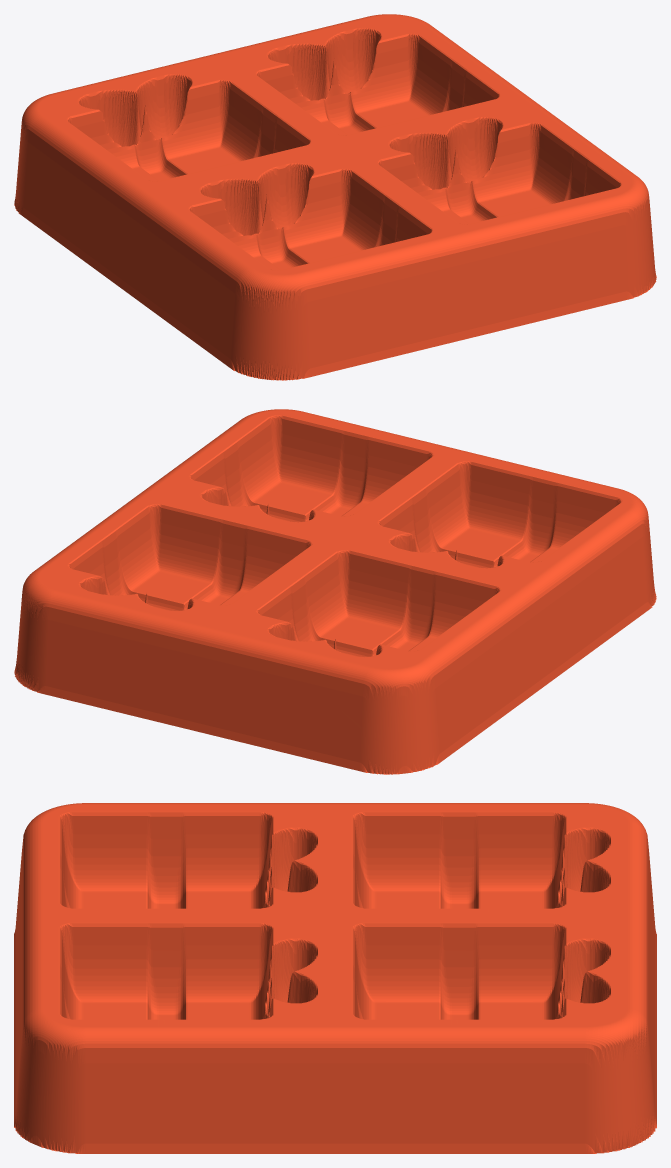
The model's file is mold.glb.
3 renders of one model, top to bottom at view 1: azimuth 30°, elevation 25°; view 2: azimuth 150°, elevation 25°; view 3: azimuth 270°, elevation 25°, orthographic. The views are drawn at different scales.
Visible parts, largest first — view 1: geometry_0; view 2: geometry_0; view 3: geometry_0.
Part boxes in pixels (box(x1,y1,x2,y2)): geometry_0: box(14, 14, 656, 380); geometry_0: box(14, 409, 656, 774); geometry_0: box(14, 803, 656, 1153).
Size of the model in its own units: 0.0732 by 0.0159 by 0.0808.
